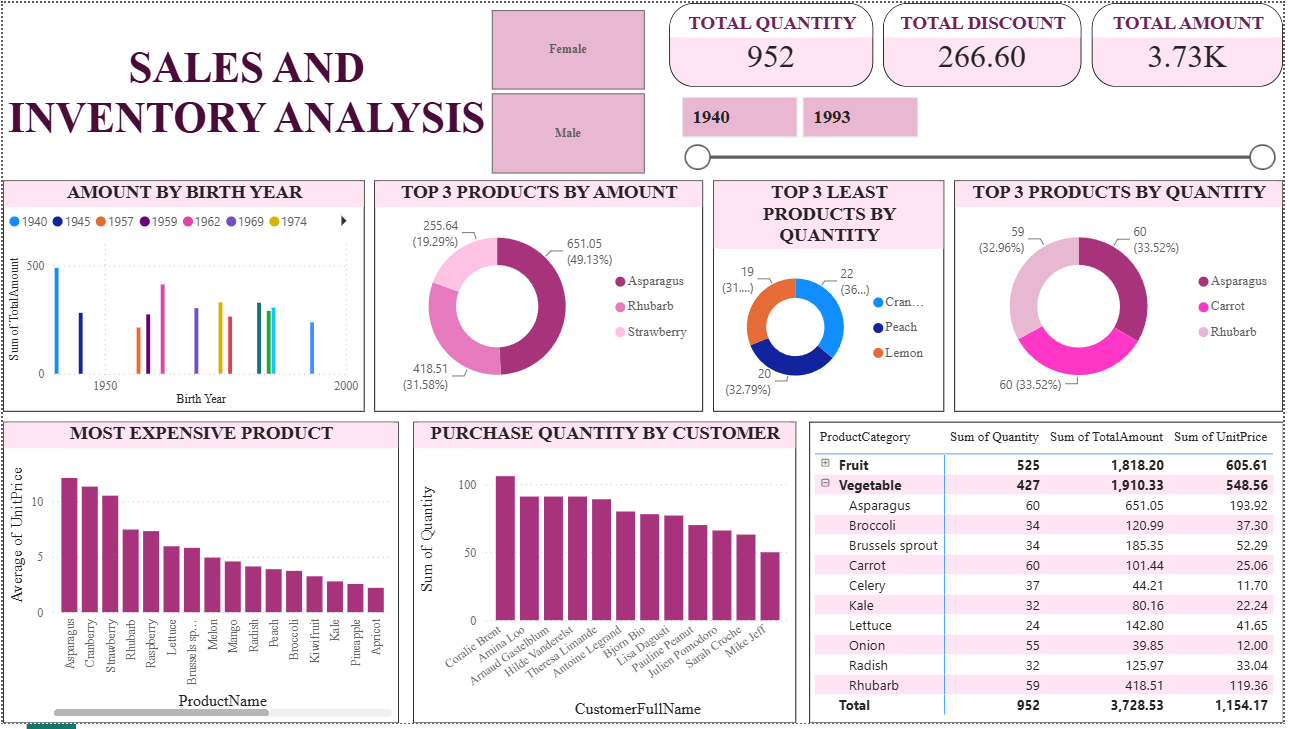

The dashboard page shown, as its layout file describes it:
{"tool":"powerbi","page":{"name":"Page 1","canvas":[1280,720],"ordinal":0},"visuals":[{"type":"columnChart","title":"PURCHASE QUANTITY BY CUSTOMER","fields":{"Category":["Sales.CustomerFullName"],"Y":["Sum(Sales.Quantity)"]},"box":[410,418.6,382.9,301.4],"z":0},{"type":"pivotTable","fields":{"Rows":["Sales.ProductCategory","Sales.ProductName"],"Values":["Sum(Sales.Quantity)","Sum(Sales.TotalAmount)","Sum(Sales.UnitPrice)"]},"box":[805.7,418.6,474.3,301.4],"z":1},{"type":"columnChart","title":"MOST EXPENSIVE PRODUCT","fields":{"Category":["Sales.ProductName"],"Y":["Avg(Sales.UnitPrice)"]},"box":[0,418.6,395.7,301.4],"z":2},{"type":"columnChart","title":"AMOUNT BY BIRTH YEAR","fields":{"Category":["Sales.Birth Year"],"Y":["Sum(Sales.TotalAmount)"],"Series":["Sales.Birth Year"]},"box":[0,177.1,361.4,231.4],"z":3},{"type":"donutChart","title":"TOP 3 PRODUCTS BY AMOUNT","fields":{"Category":["Sales.ProductName"],"Y":["Sum(Sales.TotalAmount)"]},"box":[371.4,177.1,328.6,231.4],"z":4},{"type":"donutChart","title":"TOP 3 PRODUCTS BY QUANTITY","fields":{"Category":["Sales.ProductName"],"Y":["Sum(Sales.Quantity)"]},"box":[951.4,177.1,328.6,231.4],"z":5},{"type":"donutChart","title":"TOP 3 LEAST PRODUCTS BY QUANTITY","fields":{"Category":["Sales.ProductName"],"Y":["Sum(Sales.Quantity)"]},"box":[710,177.1,231.4,231.4],"z":6},{"type":"card","title":"TOTAL AMOUNT","fields":{"Values":["Sum(Sales.TotalAmount)"]},"box":[1088.6,0,191.4,84.3],"z":7},{"type":"card","title":"TOTAL QUANTITY","fields":{"Values":["Sum(Sales.Quantity)"]},"box":[665.7,0,204.3,84.3],"z":8},{"type":"card","title":"TOTAL DISCOUNT","fields":{"Values":["Sum(Sales.Discount)"]},"box":[880,0,198.6,84.3],"z":9},{"type":"slicer","fields":{"Values":["Sales.Birth Year"]},"box":[665.7,84.3,614.3,92.9],"z":11},{"type":"slicer","fields":{"Values":["Sales.Gender"]},"box":[462.9,0,202.9,177.1],"z":12},{"type":"textbox","box":[0,0,487.1,177.1],"z":13}]}

Visuals, with their boxes in screenshot pixels (x1, y1, x2, y2), scaled from the page's 1280x720 canvas onto the 1289x729 screenshot:
"PURCHASE QUANTITY BY CUSTOMER" columnChart: [413, 424, 798, 728]
pivotTable - Sales.ProductCategory x Sales.ProductName: [811, 424, 1288, 728]
"MOST EXPENSIVE PRODUCT" columnChart: [0, 424, 398, 728]
"AMOUNT BY BIRTH YEAR" columnChart: [0, 179, 364, 414]
"TOP 3 PRODUCTS BY AMOUNT" donutChart: [374, 179, 705, 414]
"TOP 3 PRODUCTS BY QUANTITY" donutChart: [958, 179, 1288, 414]
"TOP 3 LEAST PRODUCTS BY QUANTITY" donutChart: [715, 179, 948, 414]
"TOTAL AMOUNT" card: [1096, 0, 1288, 85]
"TOTAL QUANTITY" card: [670, 0, 876, 85]
"TOTAL DISCOUNT" card: [886, 0, 1086, 85]
slicer - Sales.Birth Year: [670, 85, 1288, 179]
slicer - Sales.Gender: [466, 0, 670, 179]
textbox: [0, 0, 491, 179]
